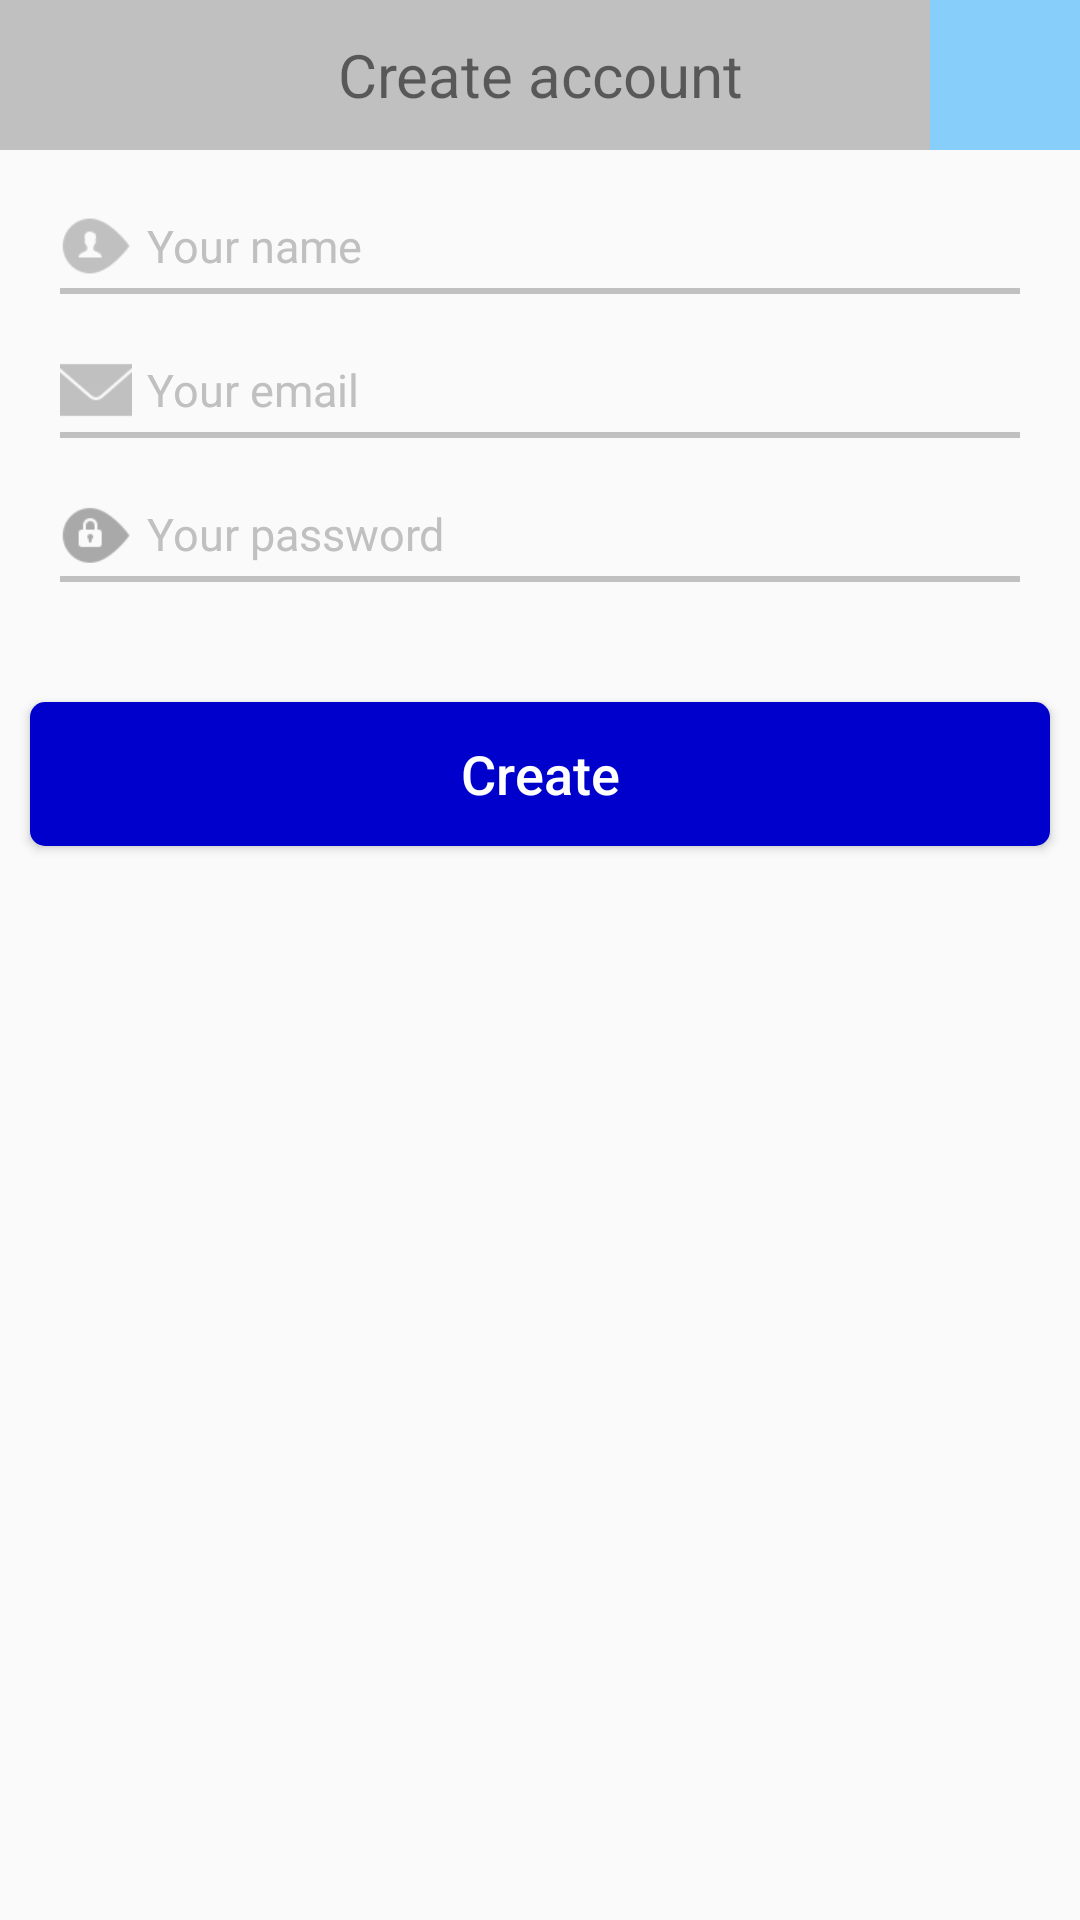

Screen size 1080w x 1920h. Icon name, then its box in pixels as (x1, y1, x2, y2):
gmail: (60, 364, 132, 416)
user: (63, 219, 129, 273)
